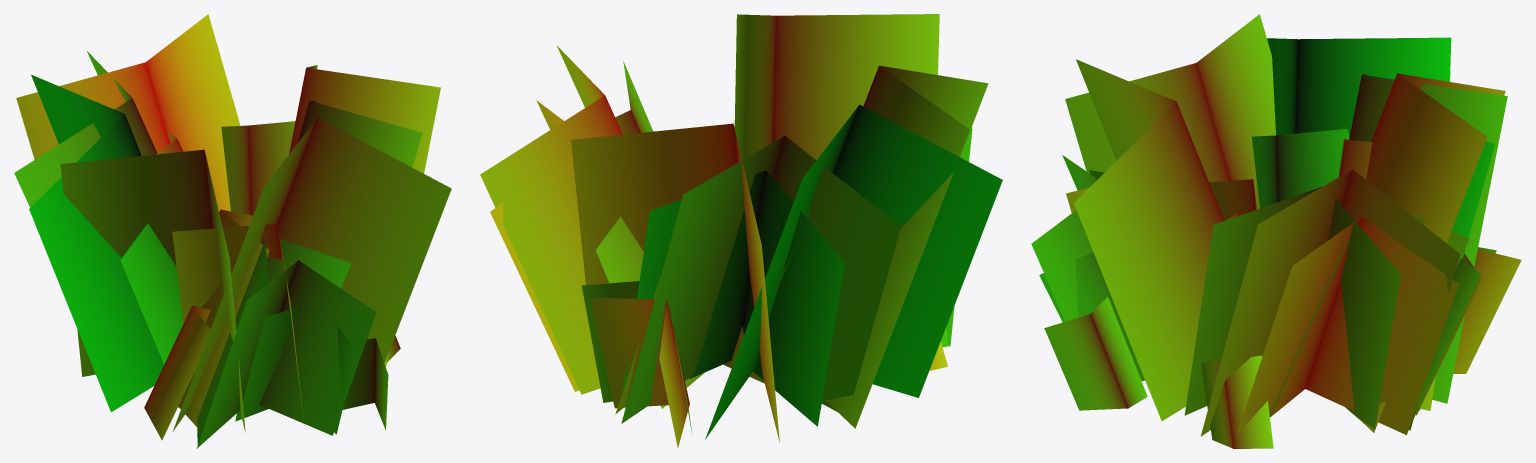
The model's file is calamus02.FBX.
3 views of the same model, side by side, from view 1: azimuth 30°, elevation 25°; view 2: azimuth 150°, elevation 25°; view 3: azimuth 270°, elevation 25° (orthographic). The views are drawn at different scales.
Parts seen in each view (by area): view 1: Calamus02; view 2: Calamus02; view 3: Calamus02.
Boxes of the visible parts, x1,y1,x2,y2 form: Calamus02: [14, 14, 451, 448]; Calamus02: [480, 14, 1002, 447]; Calamus02: [1031, 14, 1521, 448].
Size of the model in its own units: 453 by 299 by 445.
